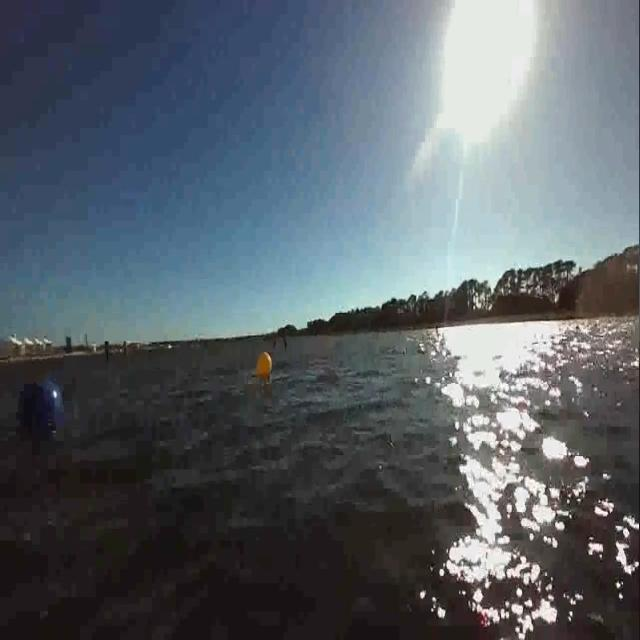blue-buoy: (23, 374, 61, 443)
yellow-buoy: (256, 349, 273, 378)
